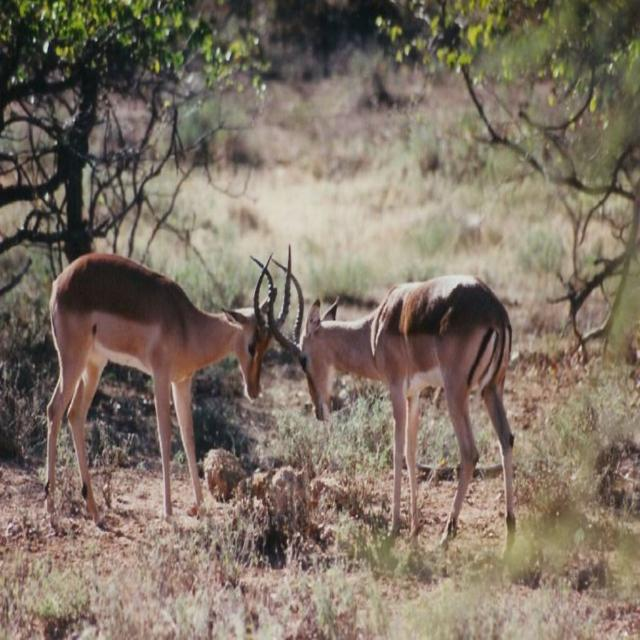Deer: (249, 254, 517, 556), (44, 243, 292, 536)
